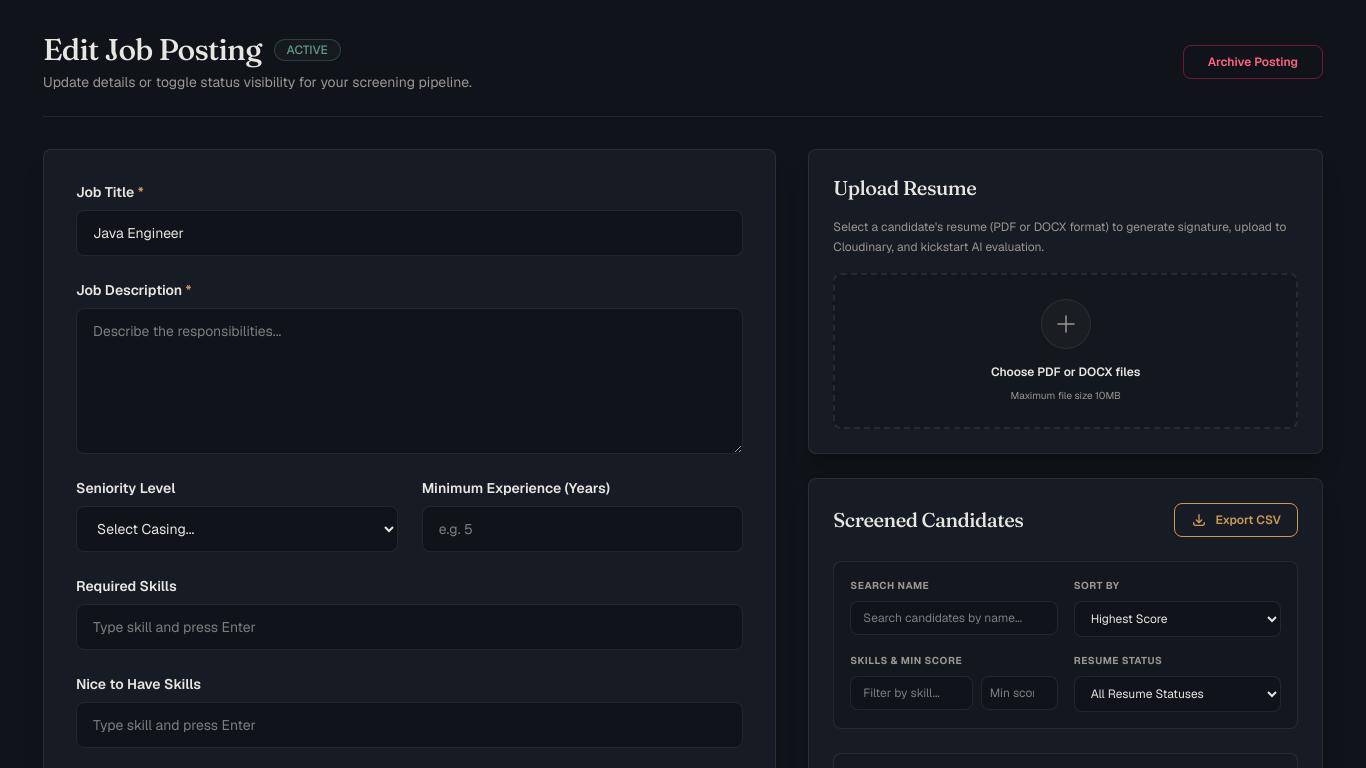
Test: JobPostingDetailPage Edit & Upload Tests › renders correct empty states for zero candidates total vs zero candidates matching filters
Type "60" into the number field with test id "filter-min-score" at {"x": 1019, "y": 693}, box x1=981 y1=676 x2=1058 y2=710
(page scrolled)
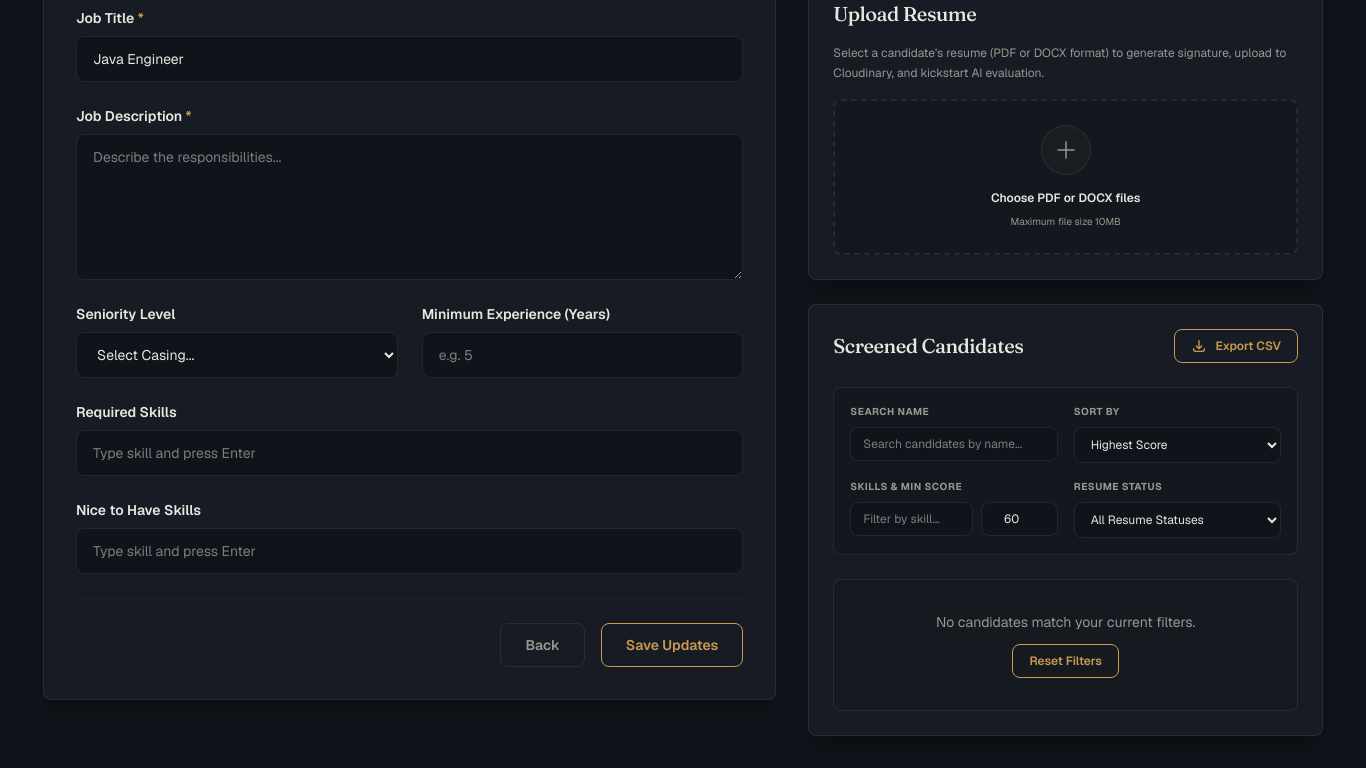
Result: the element with test id "empty-filtered-state" is shown at x1=936 y1=613 x2=1195 y2=678
Result: the text "No candidates match your current filters." is shown at x1=936 y1=613 x2=1195 y2=631
Click the button with test id "reset-filters-button" at {"x": 1066, "y": 661}, box x1=1012 y1=644 x2=1119 y2=678
(page scrolled)
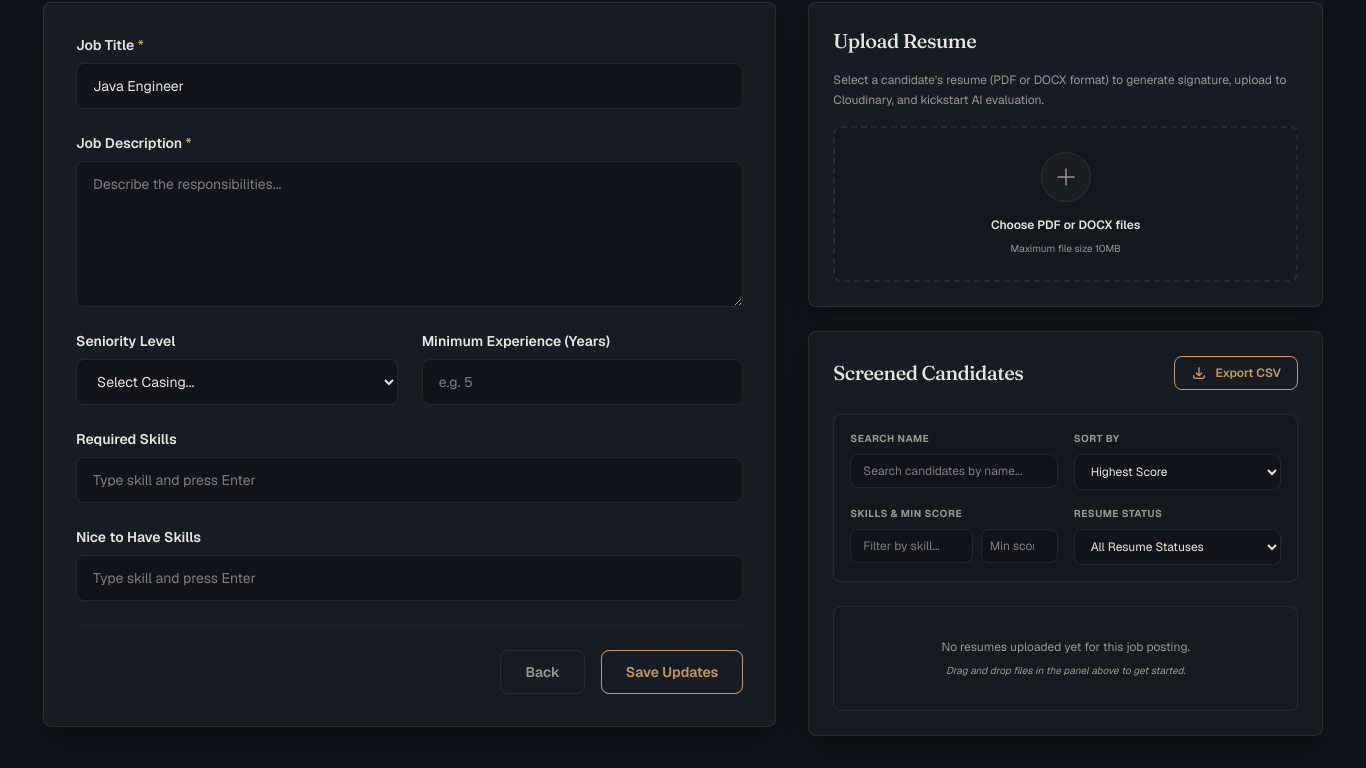
Result: the element with test id "no-candidates" is shown at x1=941 y1=639 x2=1190 y2=677
Result: the number field with test id "filter-min-score" is empty at x1=981 y1=529 x2=1058 y2=563
